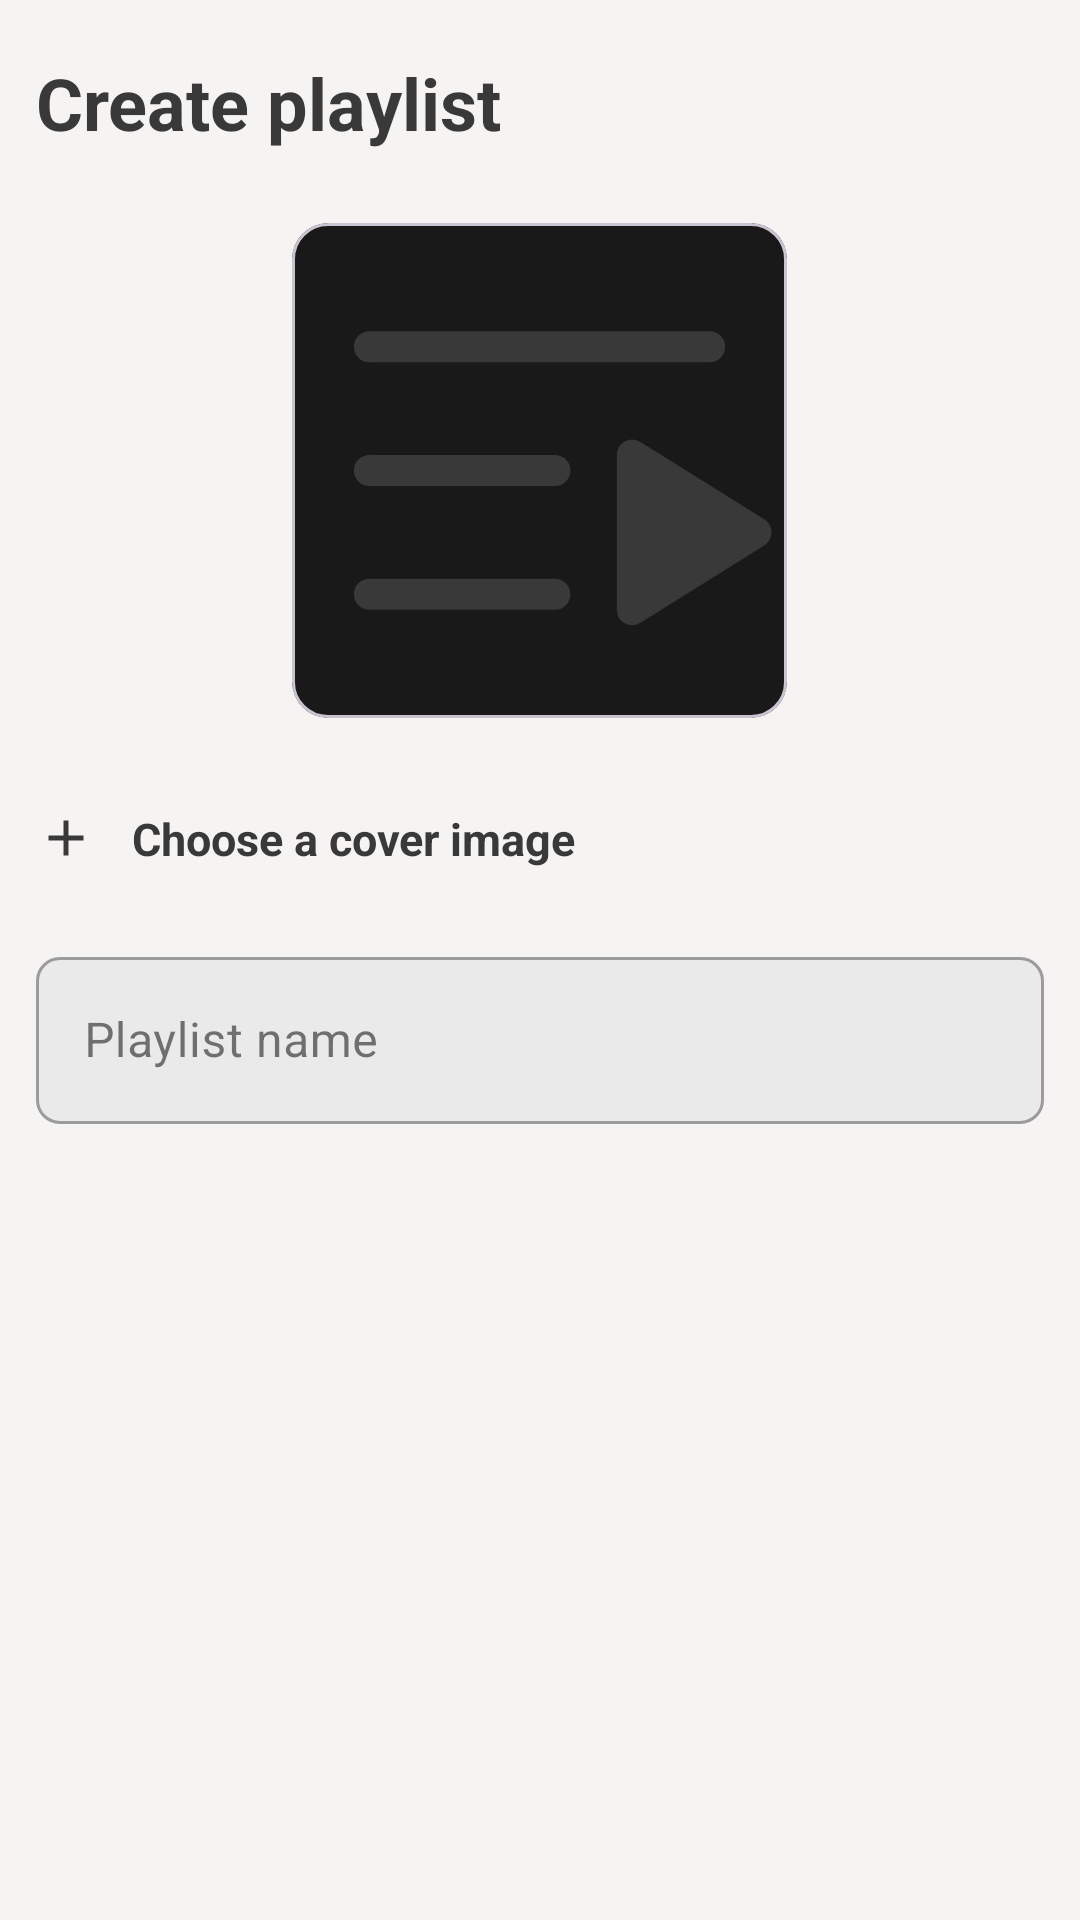

Icons on this 1080px x 1920px Android screen, each with the point to tap as [x,y]:
add: [66,838]
